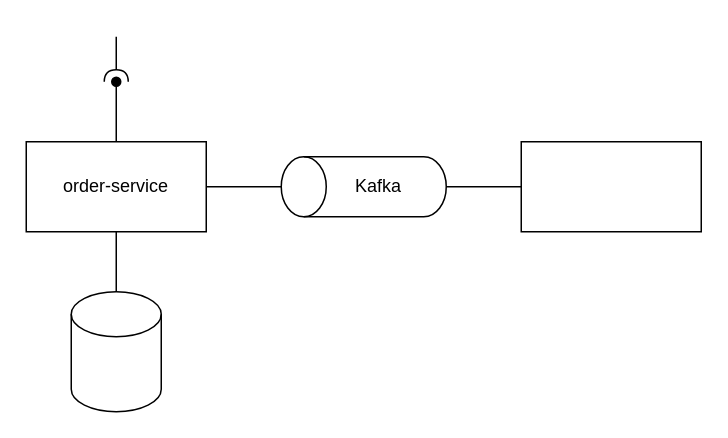
Image size: 728x438. Some labels were removed from this diagram. The shapes that lost their labels are listed below. From the top down, each one's centre as x and y in pixels, then its label:
At pixel 610 186: "notification-service".
At pixel 115 351: "PostgreSQL".
